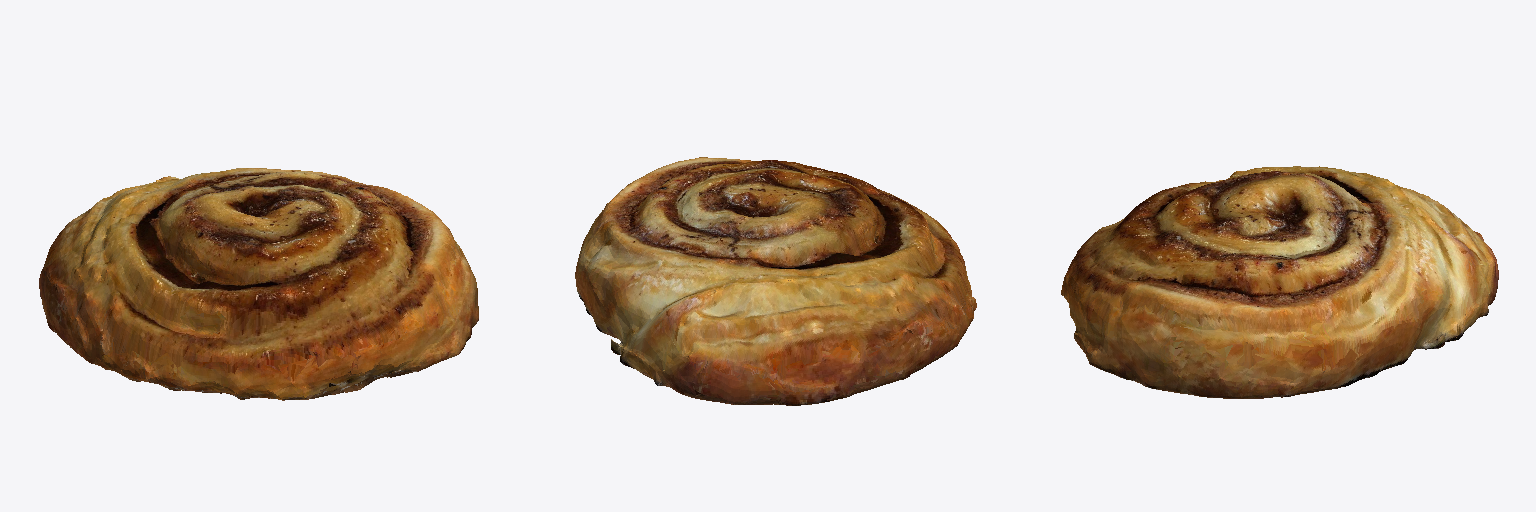
3 views of the same model, side by side, from view 1: azimuth 30°, elevation 25°; view 2: azimuth 150°, elevation 25°; view 3: azimuth 270°, elevation 25° (orthographic).
Bounding box in the file's own units: 111 × 34 × 115.
1 materials, 1 textured.